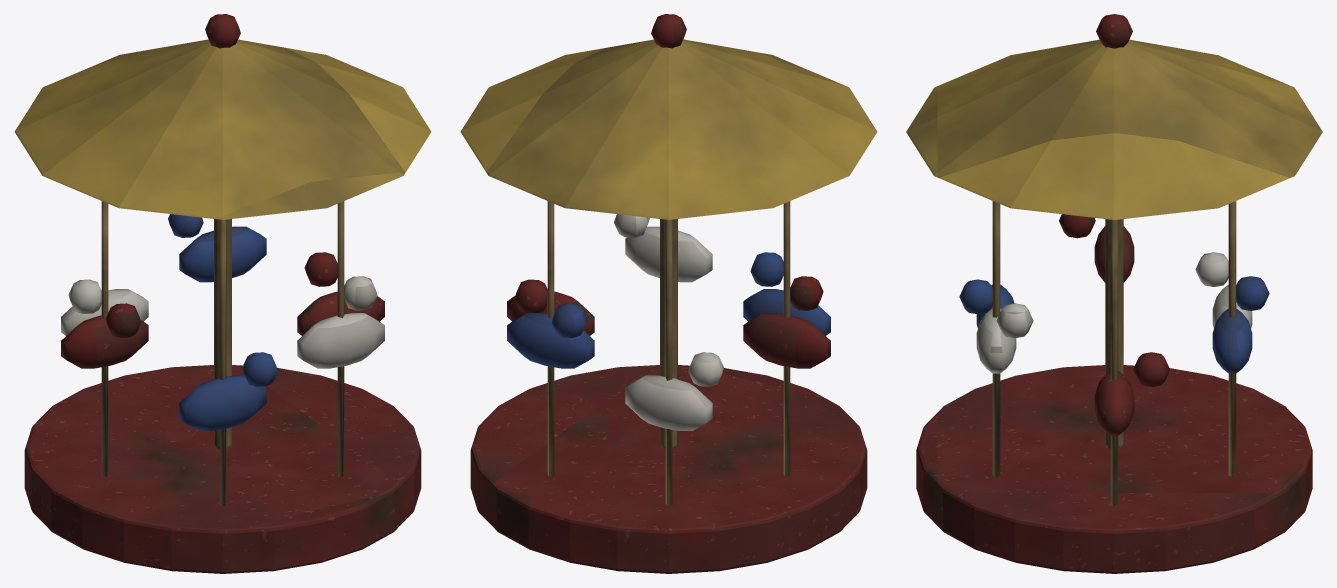
File: TY06_spinning_carousel_toy.glb
3 renders of one model, left to right at view 1: azimuth 30°, elevation 25°; view 2: azimuth 150°, elevation 25°; view 3: azimuth 270°, elevation 25°, orthographic.
Parts seen in each view (by area): view 1: TY06_spinning_carousel_toy; view 2: TY06_spinning_carousel_toy; view 3: TY06_spinning_carousel_toy.
Boxes of the visible parts, x1,y1,x2,y2 form: TY06_spinning_carousel_toy: (14, 14, 431, 573); TY06_spinning_carousel_toy: (460, 14, 877, 573); TY06_spinning_carousel_toy: (906, 14, 1322, 573).
Bounding box in the file's own units: 0.3168 × 0.4 × 0.3168.
5 materials, 5 textured.
